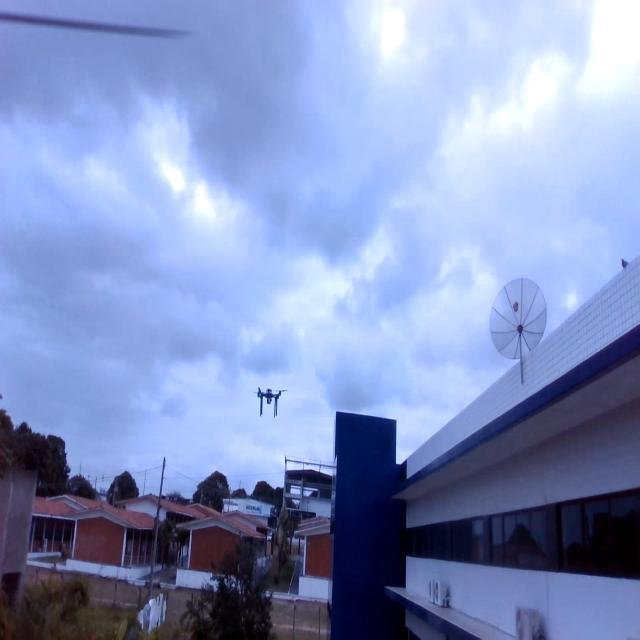-uav-: (250, 378, 292, 425)
